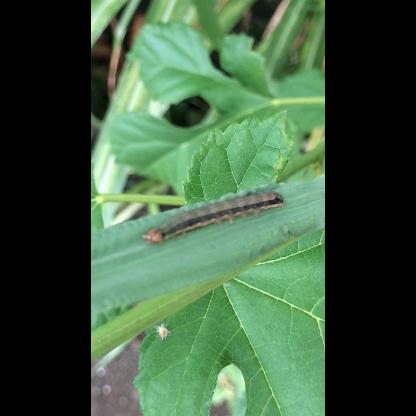Fall Armyworm Larvae: (140, 188, 288, 248)
